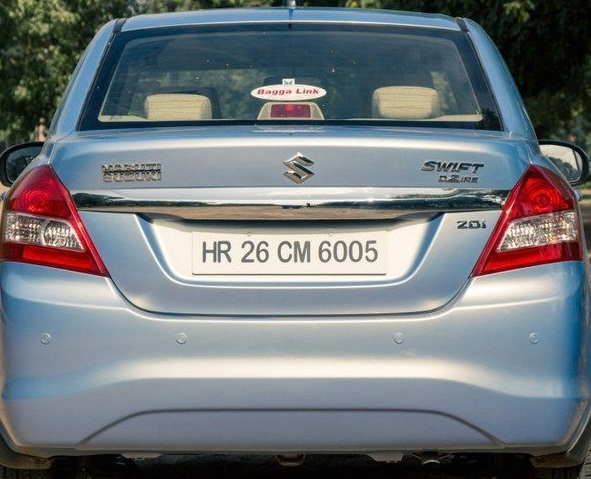number_plate: (177, 217, 398, 296)
